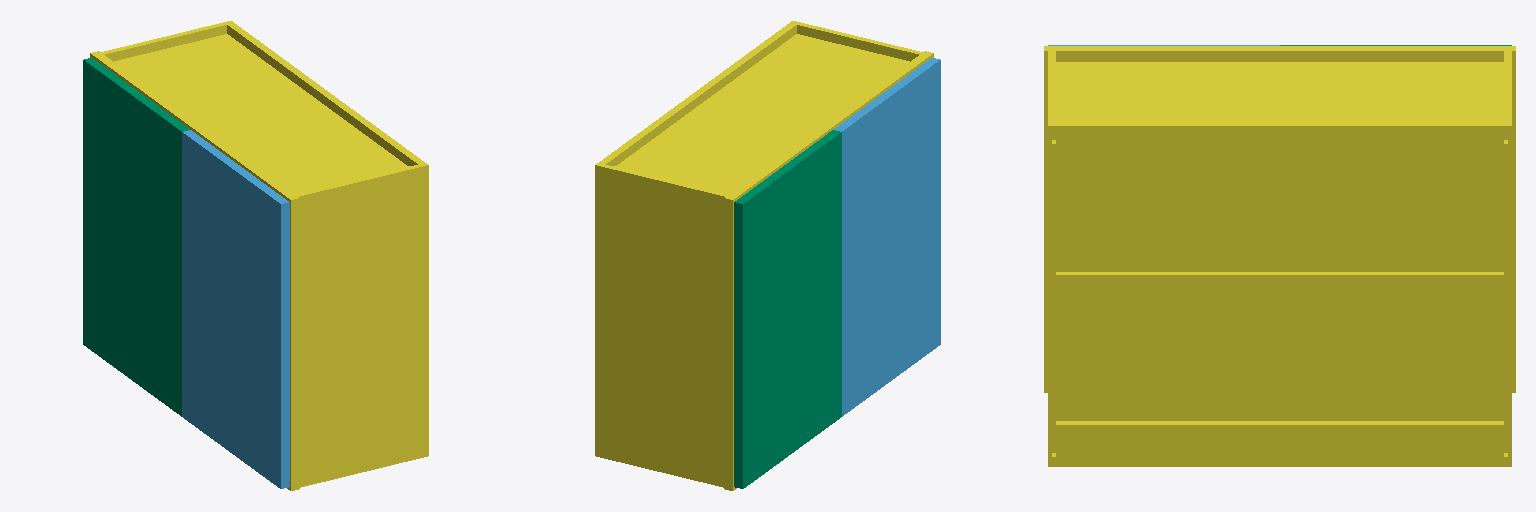
robot.urdf — partnet_881043bb57784d4e3b918969f743aebf:
<?xml version="1.0" ?>
<robot name="partnet_881043bb57784d4e3b918969f743aebf">
	<link name="base"/>
	<link name="link_0">
		<visual name="cabinet_door_surface-6">
			<origin xyz="-0.7862070031100766 0 -0.29789529915594454"/>
			<geometry>
				<mesh filename="textured_objs/original-22.obj"/>
			</geometry>
		</visual>
		<collision>
			<origin xyz="-0.7862070031100766 0 -0.29789529915594454"/>
			<geometry>
				<mesh filename="textured_objs/original-22.obj"/>
			</geometry>
		</collision>
	</link>
	<joint name="joint_0" type="revolute">
		<origin xyz="0.7862070031100766 0 0.29789529915594454"/>
		<axis xyz="0 1 0"/>
		<child link="link_0"/>
		<parent link="link_2"/>
		<limit lower="0.0" upper="1.5707963267948966"/>
	</joint>
	<link name="link_1">
		<visual name="cabinet_door_surface-5">
			<origin xyz="0.7642016341473539 0 -0.28108995359691835"/>
			<geometry>
				<mesh filename="textured_objs/original-26.obj"/>
			</geometry>
		</visual>
		<collision>
			<origin xyz="0.7642016341473539 0 -0.28108995359691835"/>
			<geometry>
				<mesh filename="textured_objs/original-26.obj"/>
			</geometry>
		</collision>
	</link>
	<joint name="joint_1" type="revolute">
		<origin xyz="-0.7642016341473539 0 0.28108995359691835"/>
		<axis xyz="0 -1 0"/>
		<child link="link_1"/>
		<parent link="link_2"/>
		<limit lower="-0.0" upper="1.5707963267948966"/>
	</joint>
	<link name="link_2">
		<visual name="shelf-18">
			<origin xyz="0 0 0"/>
			<geometry>
				<mesh filename="textured_objs/original-19.obj"/>
			</geometry>
		</visual>
		<visual name="vertical_side_panel-7">
			<origin xyz="0 0 0"/>
			<geometry>
				<mesh filename="textured_objs/original-12.obj"/>
			</geometry>
		</visual>
		<visual name="vertical_side_panel-7">
			<origin xyz="0 0 0"/>
			<geometry>
				<mesh filename="textured_objs/original-11.obj"/>
			</geometry>
		</visual>
		<visual name="vertical_side_panel-7">
			<origin xyz="0 0 0"/>
			<geometry>
				<mesh filename="textured_objs/original-10.obj"/>
			</geometry>
		</visual>
		<visual name="vertical_side_panel-8">
			<origin xyz="0 0 0"/>
			<geometry>
				<mesh filename="textured_objs/original-8.obj"/>
			</geometry>
		</visual>
		<visual name="vertical_side_panel-8">
			<origin xyz="0 0 0"/>
			<geometry>
				<mesh filename="textured_objs/original-6.obj"/>
			</geometry>
		</visual>
		<visual name="vertical_side_panel-8">
			<origin xyz="0 0 0"/>
			<geometry>
				<mesh filename="textured_objs/original-7.obj"/>
			</geometry>
		</visual>
		<visual name="back_panel-9">
			<origin xyz="0 0 0"/>
			<geometry>
				<mesh filename="textured_objs/original-20.obj"/>
			</geometry>
		</visual>
		<visual name="bottom_panel-10">
			<origin xyz="0 0 0"/>
			<geometry>
				<mesh filename="textured_objs/original-18.obj"/>
			</geometry>
		</visual>
		<visual name="top_panel-11">
			<origin xyz="0 0 0"/>
			<geometry>
				<mesh filename="textured_objs/original-17.obj"/>
			</geometry>
		</visual>
		<visual name="frame_vertical_bar-19">
			<origin xyz="0 0 0"/>
			<geometry>
				<mesh filename="textured_objs/original-1.obj"/>
			</geometry>
		</visual>
		<visual name="frame_vertical_bar-20">
			<origin xyz="0 0 0"/>
			<geometry>
				<mesh filename="textured_objs/original-2.obj"/>
			</geometry>
		</visual>
		<visual name="frame_horizontal_bar-21">
			<origin xyz="0 0 0"/>
			<geometry>
				<mesh filename="textured_objs/original-14.obj"/>
			</geometry>
		</visual>
		<visual name="frame_horizontal_bar-22">
			<origin xyz="0 0 0"/>
			<geometry>
				<mesh filename="textured_objs/original-16.obj"/>
			</geometry>
		</visual>
		<visual name="frame_horizontal_bar-23">
			<origin xyz="0 0 0"/>
			<geometry>
				<mesh filename="textured_objs/original-15.obj"/>
			</geometry>
		</visual>
		<visual name="frame_horizontal_bar-24">
			<origin xyz="0 0 0"/>
			<geometry>
				<mesh filename="textured_objs/original-4.obj"/>
			</geometry>
		</visual>
		<visual name="frame_horizontal_bar-25">
			<origin xyz="0 0 0"/>
			<geometry>
				<mesh filename="textured_objs/original-3.obj"/>
			</geometry>
		</visual>
		<visual name="other_leaf-29">
			<origin xyz="0 0 0"/>
			<geometry>
				<mesh filename="textured_objs/original-27.obj"/>
			</geometry>
		</visual>
		<visual name="other_leaf-29">
			<origin xyz="0 0 0"/>
			<geometry>
				<mesh filename="textured_objs/original-23.obj"/>
			</geometry>
		</visual>
		<visual name="other_leaf-28">
			<origin xyz="0 0 0"/>
			<geometry>
				<mesh filename="textured_objs/original-24.obj"/>
			</geometry>
		</visual>
		<visual name="other_leaf-28">
			<origin xyz="0 0 0"/>
			<geometry>
				<mesh filename="textured_objs/original-28.obj"/>
			</geometry>
		</visual>
		<collision>
			<origin xyz="0 0 0"/>
			<geometry>
				<mesh filename="textured_objs/original-19.obj"/>
			</geometry>
		</collision>
		<collision>
			<origin xyz="0 0 0"/>
			<geometry>
				<mesh filename="textured_objs/original-12.obj"/>
			</geometry>
		</collision>
		<collision>
			<origin xyz="0 0 0"/>
			<geometry>
				<mesh filename="textured_objs/original-11.obj"/>
			</geometry>
		</collision>
		<collision>
			<origin xyz="0 0 0"/>
			<geometry>
				<mesh filename="textured_objs/original-10.obj"/>
			</geometry>
		</collision>
		<collision>
			<origin xyz="0 0 0"/>
			<geometry>
				<mesh filename="textured_objs/original-8.obj"/>
			</geometry>
		</collision>
		<collision>
			<origin xyz="0 0 0"/>
			<geometry>
				<mesh filename="textured_objs/original-6.obj"/>
			</geometry>
		</collision>
		<collision>
			<origin xyz="0 0 0"/>
			<geometry>
				<mesh filename="textured_objs/original-7.obj"/>
			</geometry>
		</collision>
		<collision>
			<origin xyz="0 0 0"/>
			<geometry>
				<mesh filename="textured_objs/original-20.obj"/>
			</geometry>
		</collision>
		<collision>
			<origin xyz="0 0 0"/>
			<geometry>
				<mesh filename="textured_objs/original-18.obj"/>
			</geometry>
		</collision>
		<collision>
			<origin xyz="0 0 0"/>
			<geometry>
				<mesh filename="textured_objs/original-17.obj"/>
			</geometry>
		</collision>
		<collision>
			<origin xyz="0 0 0"/>
			<geometry>
				<mesh filename="textured_objs/original-1.obj"/>
			</geometry>
		</collision>
		<collision>
			<origin xyz="0 0 0"/>
			<geometry>
				<mesh filename="textured_objs/original-2.obj"/>
			</geometry>
		</collision>
		<collision>
			<origin xyz="0 0 0"/>
			<geometry>
				<mesh filename="textured_objs/original-14.obj"/>
			</geometry>
		</collision>
		<collision>
			<origin xyz="0 0 0"/>
			<geometry>
				<mesh filename="textured_objs/original-16.obj"/>
			</geometry>
		</collision>
		<collision>
			<origin xyz="0 0 0"/>
			<geometry>
				<mesh filename="textured_objs/original-15.obj"/>
			</geometry>
		</collision>
		<collision>
			<origin xyz="0 0 0"/>
			<geometry>
				<mesh filename="textured_objs/original-4.obj"/>
			</geometry>
		</collision>
		<collision>
			<origin xyz="0 0 0"/>
			<geometry>
				<mesh filename="textured_objs/original-3.obj"/>
			</geometry>
		</collision>
		<collision>
			<origin xyz="0 0 0"/>
			<geometry>
				<mesh filename="textured_objs/original-27.obj"/>
			</geometry>
		</collision>
		<collision>
			<origin xyz="0 0 0"/>
			<geometry>
				<mesh filename="textured_objs/original-23.obj"/>
			</geometry>
		</collision>
		<collision>
			<origin xyz="0 0 0"/>
			<geometry>
				<mesh filename="textured_objs/original-24.obj"/>
			</geometry>
		</collision>
		<collision>
			<origin xyz="0 0 0"/>
			<geometry>
				<mesh filename="textured_objs/original-28.obj"/>
			</geometry>
		</collision>
	</link>
	<joint name="joint_2" type="fixed">
		<origin rpy="1.570796326794897 0 -1.570796326794897" xyz="0 0 0"/>
		<child link="link_2"/>
		<parent link="base"/>
	</joint>
</robot>

--- Render facts (derived) ---
3 views of the same robot in one strip: view 1: azimuth 30°, elevation 25°; view 2: azimuth 150°, elevation 25°; view 3: azimuth 270°, elevation 25° (orthographic).
Robot: partnet_881043bb57784d4e3b918969f743aebf — 4 links, 3 joints (2 revolute, 1 fixed); root link base; default pose: all joints at 0.
Links seen in each view (by area): view 1: link_2, link_0, link_1; view 2: link_2, link_1, link_0; view 3: link_2.
Link boxes in pixels (box(x1,y1,x2,y2)): link_2: box(90, 21, 428, 490); link_0: box(182, 130, 289, 488); link_1: box(83, 58, 189, 416); link_2: box(595, 21, 933, 490); link_1: box(734, 130, 841, 488); link_0: box(834, 58, 940, 416); link_2: box(1044, 46, 1515, 466).
Bounding box of the posed robot: 0.667 × 1.57 × 1.26 m (x, y, z).
Meshes: 23 distinct files referenced, 23 mesh visuals loaded (23 OBJ).